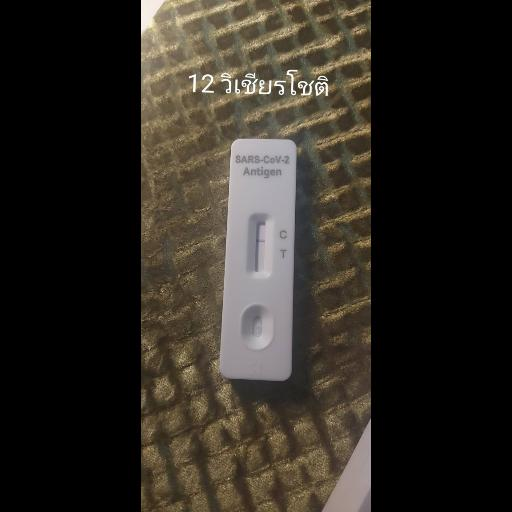Neg: (217, 138, 297, 378)
